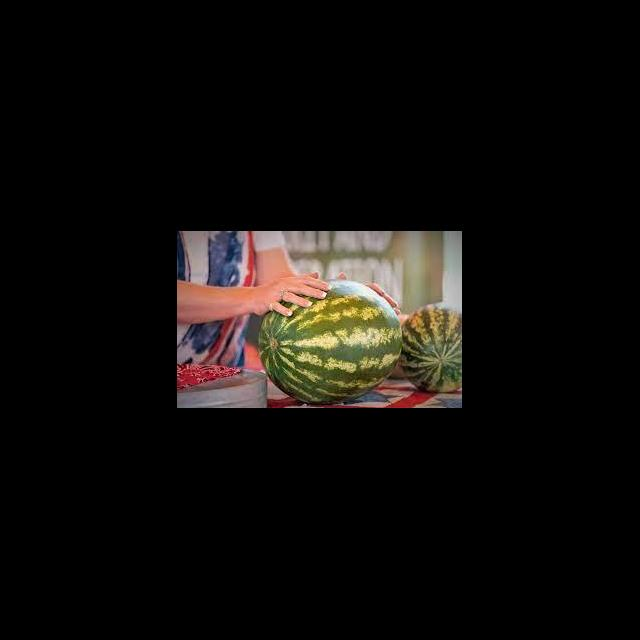watermelon: (258, 279, 403, 405), (398, 303, 462, 393)
